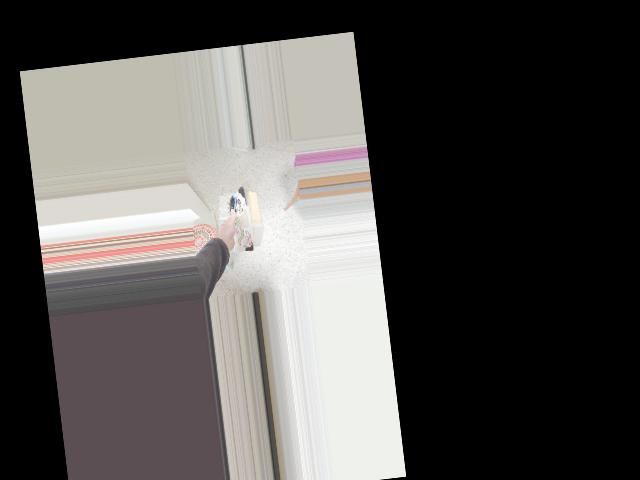cheese: (210, 180, 283, 262)
